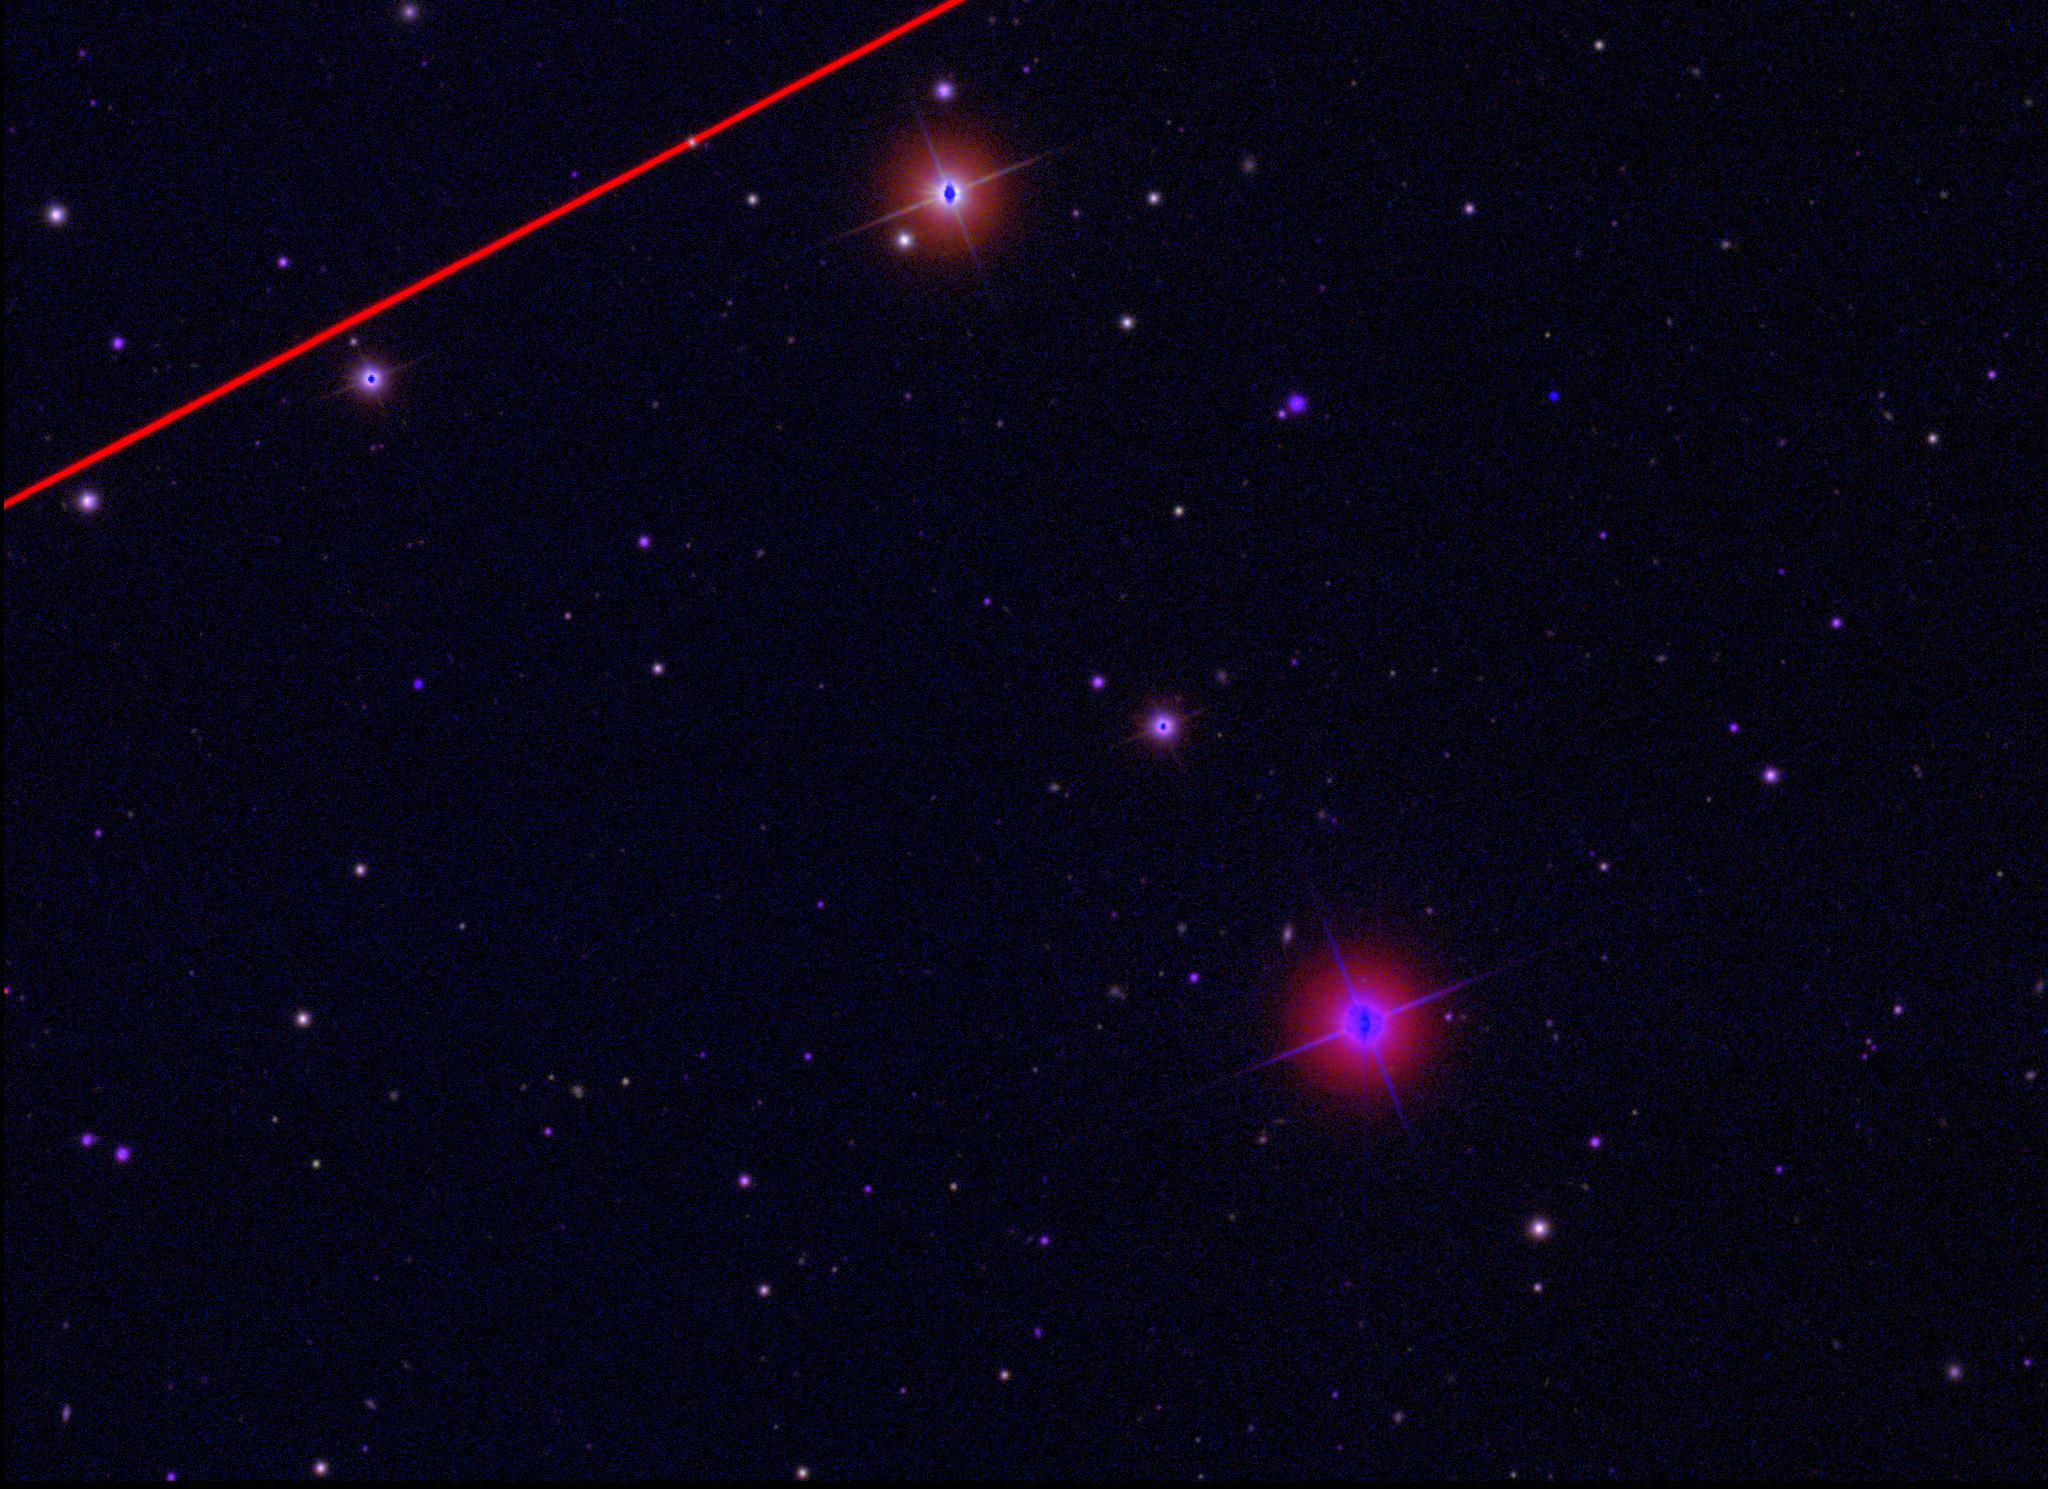L: (1549, 393, 1561, 407)
